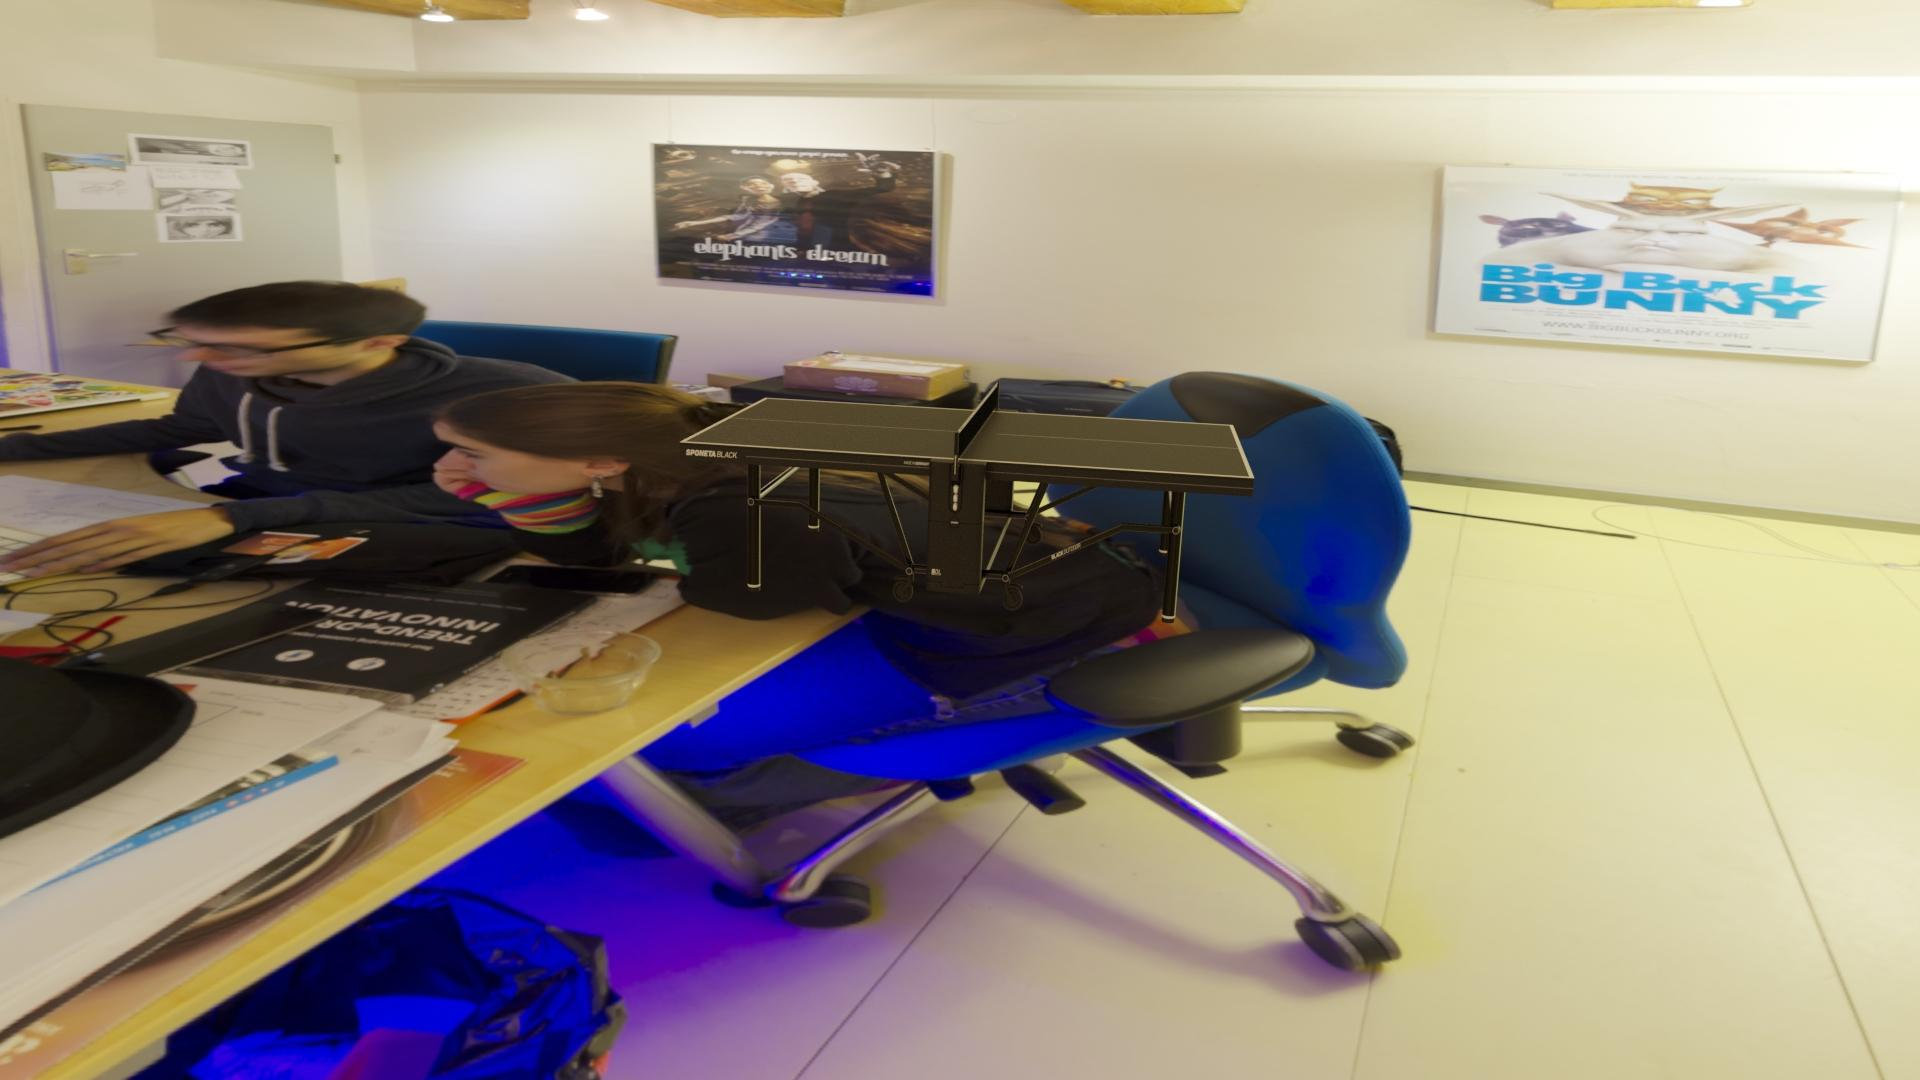table: (686, 398, 1250, 477)
